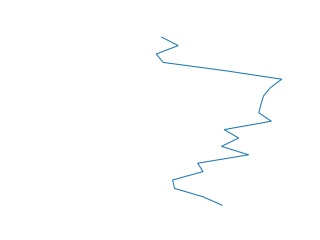floodPlain: (155, 35, 285, 209)
